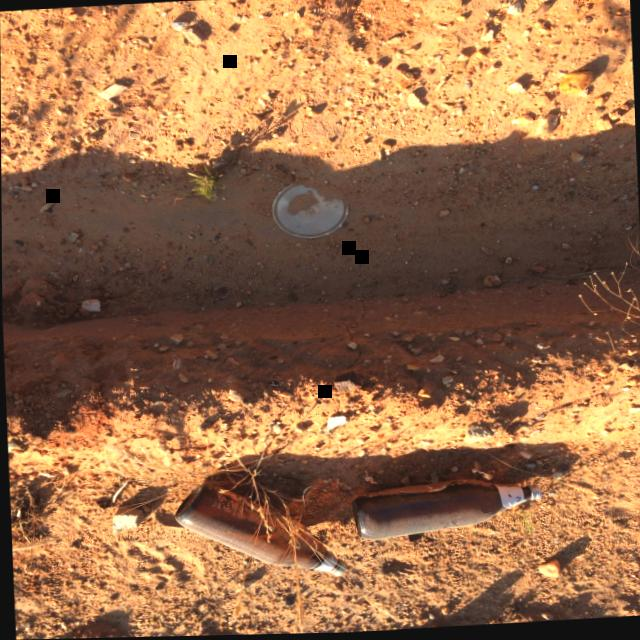Glass bottle: (174, 485, 347, 577), (350, 480, 540, 542)
Metal bottle cap: (332, 562, 347, 577), (530, 487, 540, 502)
Plastic lid: (271, 185, 348, 239)
